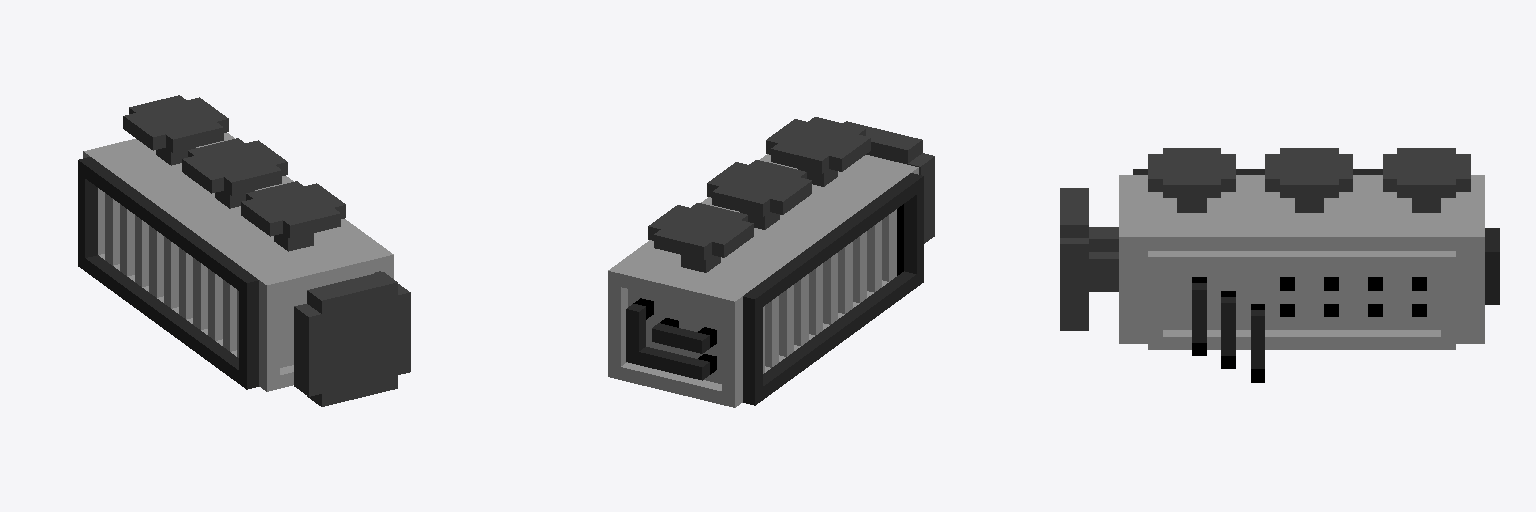
3 views of the same model, side by side, from view 1: azimuth 30°, elevation 25°; view 2: azimuth 150°, elevation 25°; view 3: azimuth 270°, elevation 25° (orthographic).
Parts seen in each view (by area): view 1: object 1; view 2: object 1; view 3: object 1.
Boxes of the visible parts, box(x1,y1,x2,y2) form: object 1: box(78, 95, 410, 406); object 1: box(608, 117, 934, 407); object 1: box(1060, 148, 1499, 382).
Size of the model in its own units: 1.3 by 1.3 by 3.
1 materials, 1 textured.